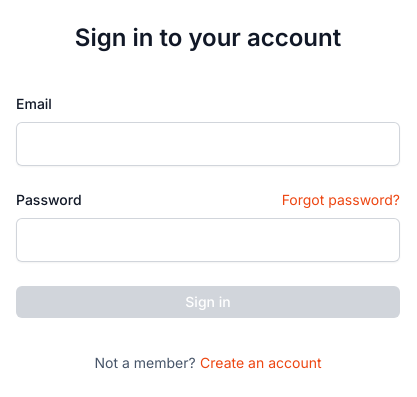
Test: Log in  page scenarios › Should not login when password is incorrect
In the field with test id "email": x=208, y=144 [16,122,400,166], type "test@yopmail.com"
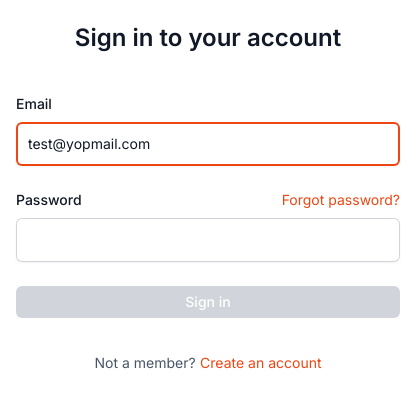
In the password field with test id "password": x=208, y=240 [16,218,400,262], type "test@1234"
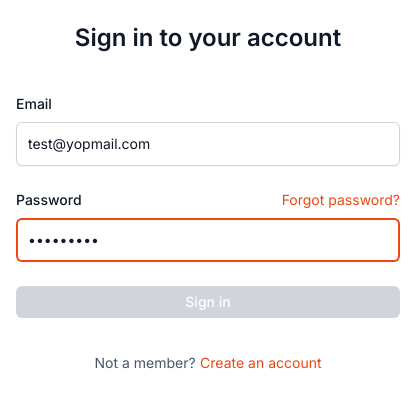
Click the button with test id "submit-button": x=208, y=302 [16,286,400,318]
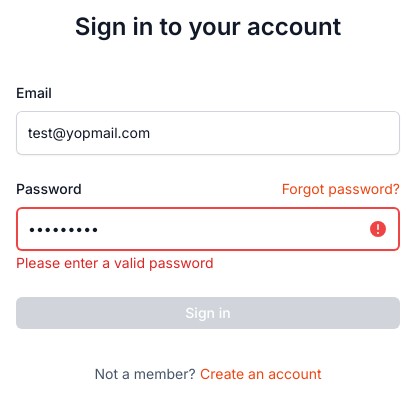
Result: the text "Please enter a valid password" is shown at [16,254,214,271]
